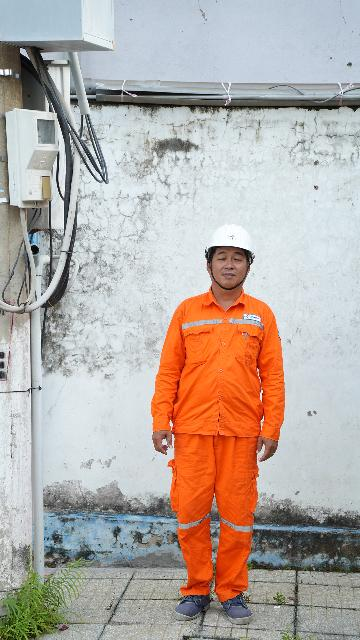helmet: (196, 207, 269, 263)
shoes: (166, 585, 218, 628), (218, 573, 257, 628)
